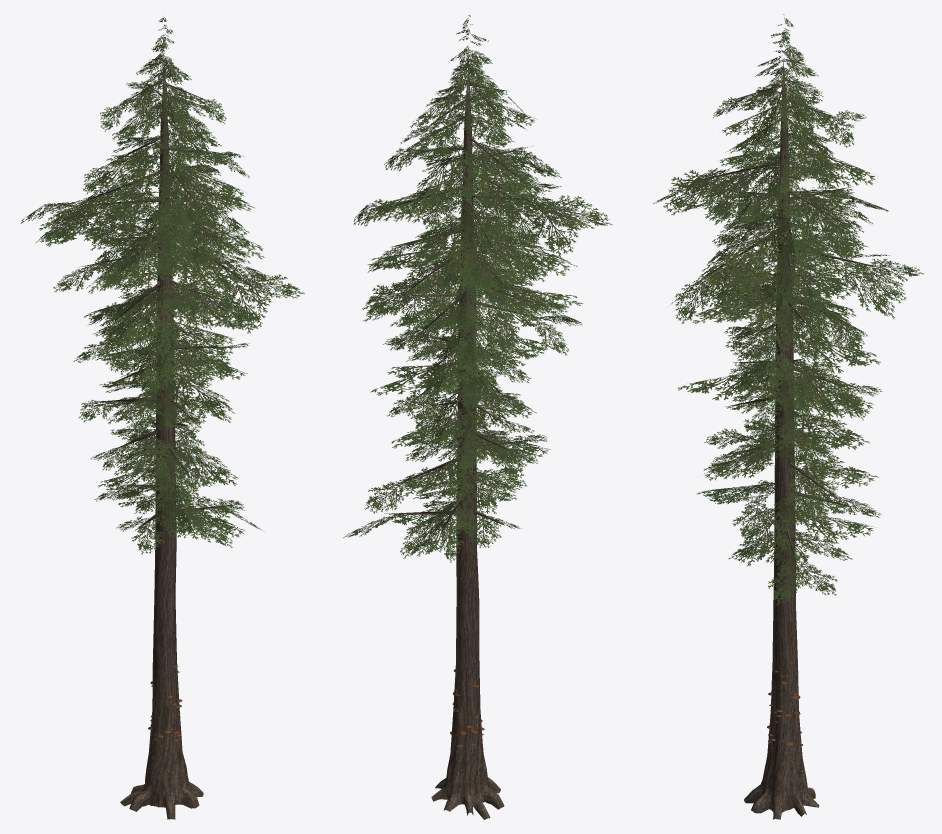
File: tree_redwood_01_generic.fbx
The picture shows the model from 3 angles, left to right: view 1: azimuth 30°, elevation 25°; view 2: azimuth 150°, elevation 25°; view 3: azimuth 270°, elevation 25°; orthographic projection.
Parts seen in each view (by area): view 1: tree_redwood_01_generic; view 2: tree_redwood_01_generic; view 3: tree_redwood_01_generic.
Boxes of the visible parts, x1,y1,x2,y2 form: tree_redwood_01_generic: (21,17,304,819); tree_redwood_01_generic: (343,15,612,819); tree_redwood_01_generic: (653,14,923,819).
Bounding box in the file's own units: 3288 × 10481 × 3363.
